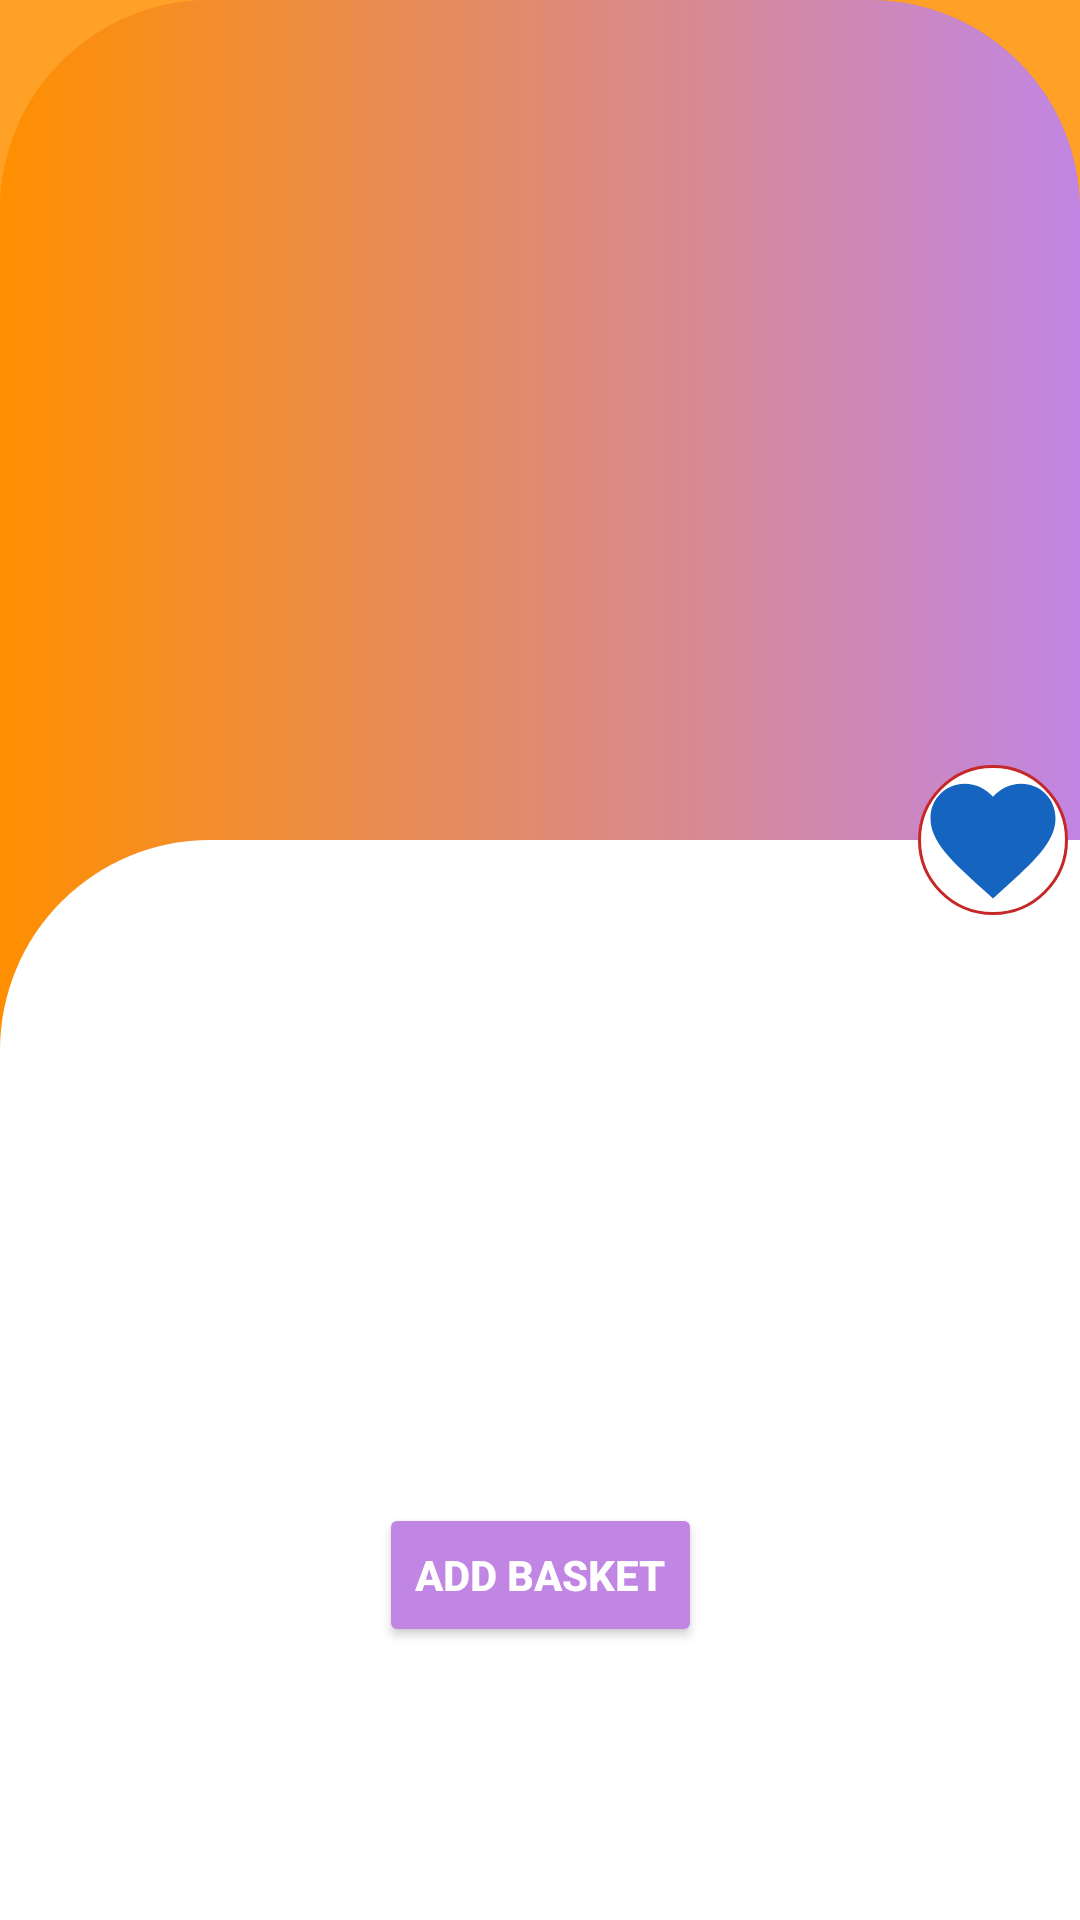

Point at icon controls on the screen. Image size 1080 × 1920, points as point (x, y).
favoriteb: point (993, 840)
